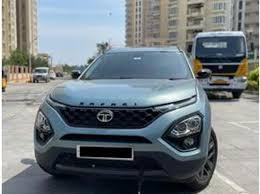Normal Automobiles: (34, 47, 216, 188), (192, 31, 247, 97), (32, 67, 49, 82), (2, 70, 7, 91), (71, 70, 80, 78), (49, 70, 55, 79), (56, 72, 62, 76)
